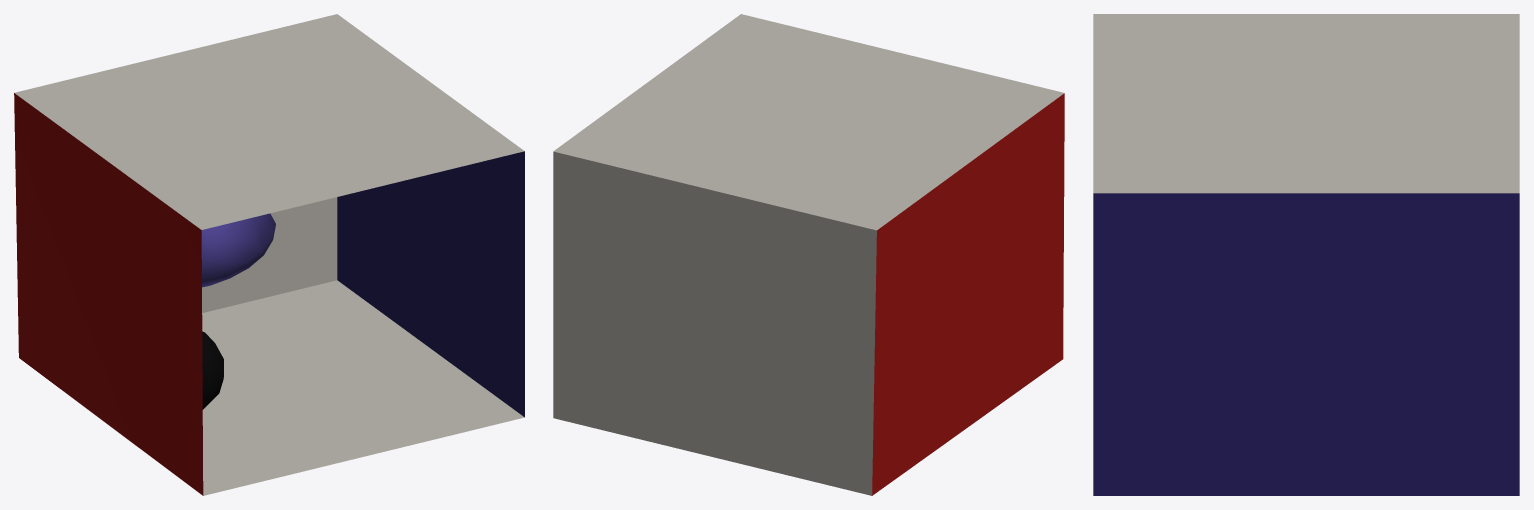
The model's file is CornellBox-Ellipsoid-12.obj.
The picture shows the model from 3 angles, left to right: view 1: azimuth 30°, elevation 25°; view 2: azimuth 150°, elevation 25°; view 3: azimuth 270°, elevation 25°; orthographic projection. The views are drawn at different scales.
Parts seen in each view (by area): view 1: ceiling, leftWall, floor, rightWall, backWall, leftSphere, rightSphere; view 2: backWall, ceiling, leftWall; view 3: rightWall, ceiling.
Boxes of the visible parts, box(x1,y1,x2,y2) form: ceiling: box(14, 14, 524, 229); leftWall: box(14, 93, 203, 495); floor: box(202, 280, 524, 495); rightWall: box(337, 151, 524, 417); backWall: box(202, 197, 337, 312); leftSphere: box(201, 213, 275, 287); rightSphere: box(202, 331, 223, 409); backWall: box(553, 151, 876, 495); ceiling: box(553, 14, 1064, 230); leftWall: box(872, 93, 1064, 495); rightWall: box(1093, 193, 1519, 495); ceiling: box(1093, 14, 1519, 193).
Size of the model in its own units: 2.02 by 1.59 by 2.03.
